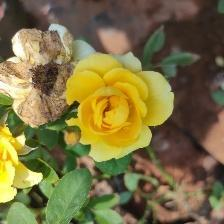rose: (66, 45, 180, 166)
